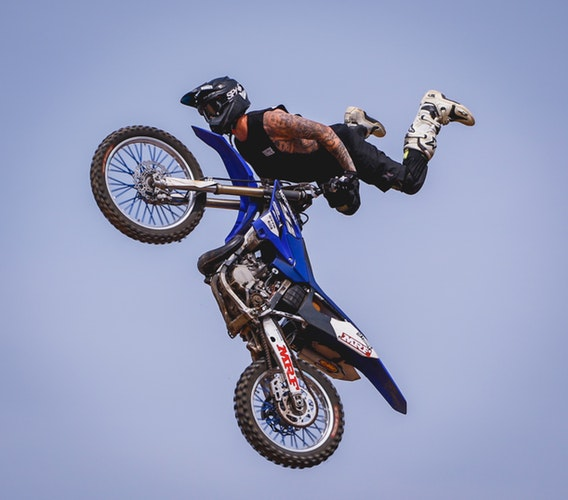helmet: (184, 78, 249, 129)
